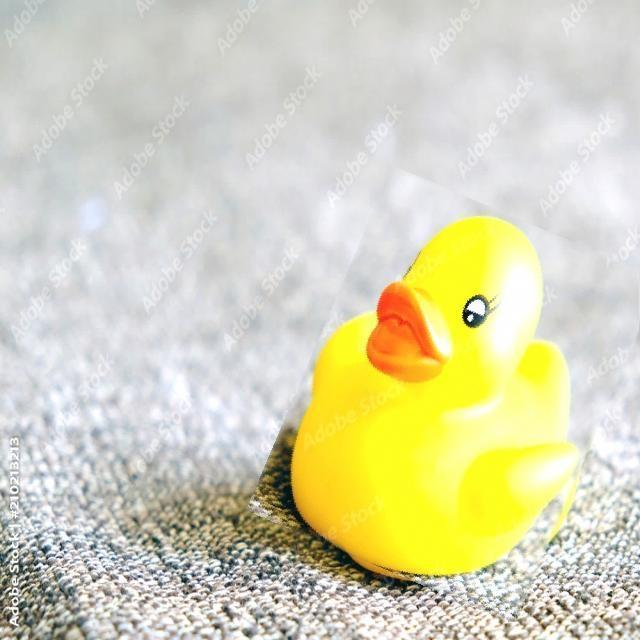rubber-duck: (291, 216, 578, 577)
